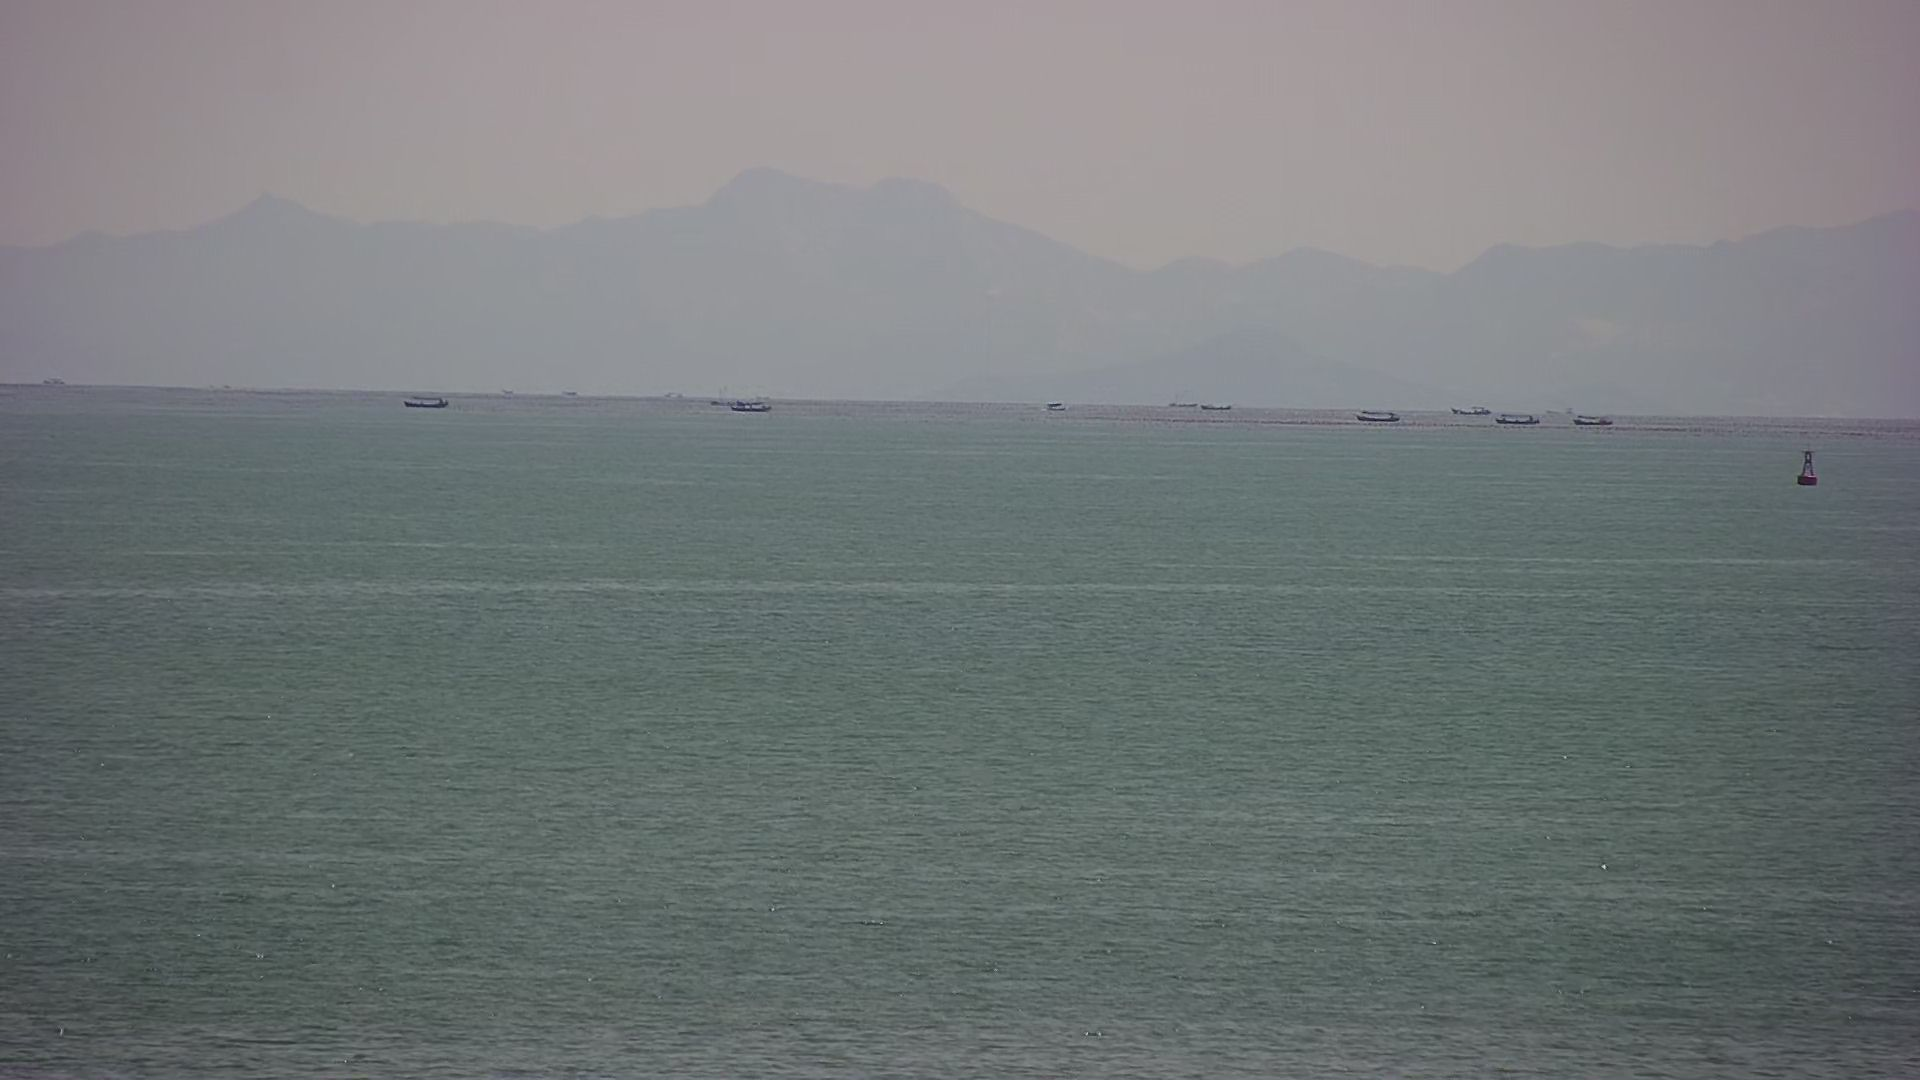buoy: (1793, 438, 1825, 491)
